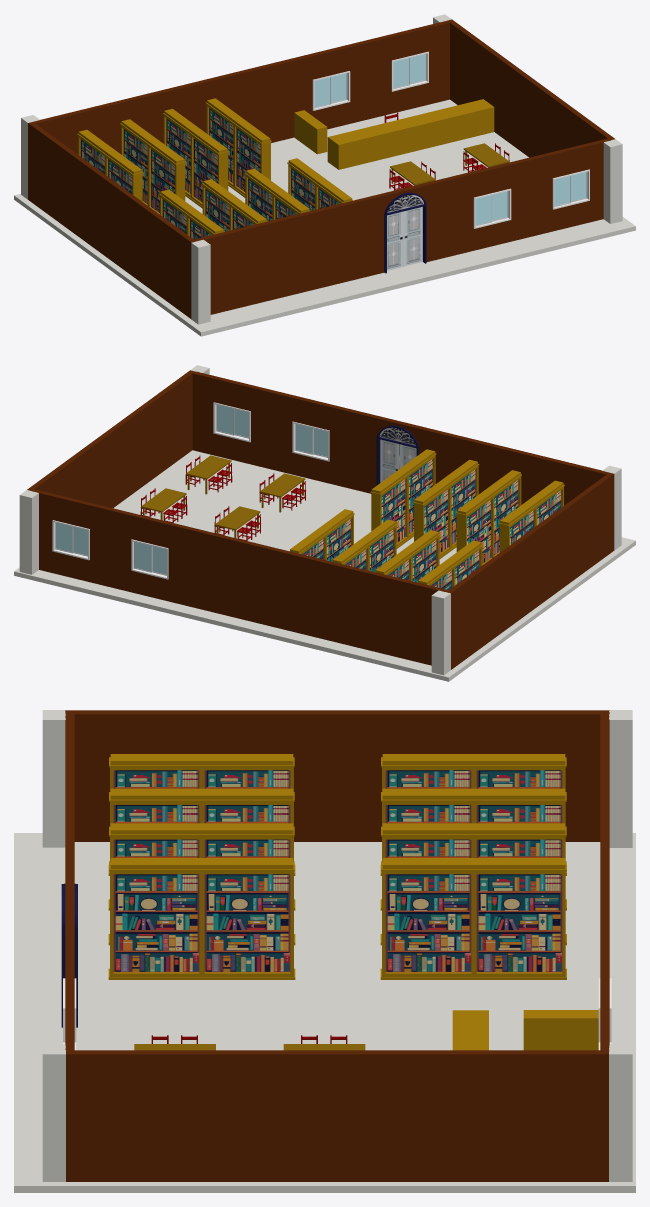
Rendered from Library_Full.glb.
3 renders of one model, top to bottom at view 1: azimuth 30°, elevation 25°; view 2: azimuth 150°, elevation 25°; view 3: azimuth 270°, elevation 25°, orthographic. The views are drawn at different scales.
Visible parts, largest first — view 1: Wall_and_Floor, polySurface13705, Bookshelf2, Bookshelf8, Bookshelf14, Bookshelf15, Bookshelf3, Bookshelf9, polySurface13531, Bookshelf18, Bookshelf12, LIB_Door_Right (+12 smaller); view 2: Wall_and_Floor, Bookshelf12, Bookshelf18, Bookshelf6, Bookshelf11, Bookshelf17, Bookshelf5, Bookshelf8, Bookshelf2, Bookshelf14, Bookshelf24, LIB_Door_structure (+11 smaller); view 3: Wall_and_Floor, Bookshelf1, Bookshelf4, BookshelfB, BookshelfA, polySurface13531, Bookshelf16, Bookshelf13, BookshelfF, BookshelfE, Bookshelf19, Bookshelf22 (+8 smaller).
Part boxes in pixels (x1,y1,x2,y2): Wall_and_Floor: [14, 14, 635, 336]; polySurface13705: [327, 99, 494, 169]; Bookshelf2: [232, 119, 267, 197]; Bookshelf8: [190, 129, 224, 208]; Bookshelf14: [147, 140, 181, 214]; Bookshelf15: [120, 120, 153, 205]; Bookshelf3: [205, 99, 238, 188]; Bookshelf9: [163, 109, 195, 198]; polySurface13531: [294, 110, 327, 154]; Bookshelf18: [202, 180, 234, 231]; Bookshelf12: [244, 169, 276, 221]; LIB_Door_Right: [404, 206, 422, 266]; Wall_and_Floor: [14, 365, 635, 681]; Bookshelf12: [416, 481, 451, 558]; Bookshelf18: [459, 491, 494, 565]; Bookshelf6: [374, 470, 408, 548]; Bookshelf11: [447, 461, 479, 550]; Bookshelf17: [490, 471, 521, 557]; Bookshelf5: [404, 450, 436, 540]; Bookshelf8: [364, 521, 397, 571]; Bookshelf2: [322, 510, 354, 561]; Bookshelf14: [408, 531, 440, 582]; Bookshelf24: [502, 501, 537, 548]; LIB_Door_structure: [376, 425, 418, 485]; Wall_and_Floor: [14, 710, 635, 1192]; Bookshelf1: [380, 862, 476, 979]; Bookshelf4: [108, 862, 204, 979]; BookshelfB: [200, 862, 295, 979]; BookshelfA: [472, 862, 566, 979]; polySurface13531: [523, 1010, 598, 1050]; Bookshelf16: [108, 791, 203, 910]; Bookshelf13: [380, 791, 475, 910]; BookshelfF: [200, 791, 295, 910]; BookshelfE: [472, 791, 566, 910]; Bookshelf19: [380, 757, 475, 875]; Bookshelf22: [108, 757, 203, 875].
Size of the model in its own units: 17.69 by 3.15 by 13.18.
Materials: 18 (3 with a texture image).
